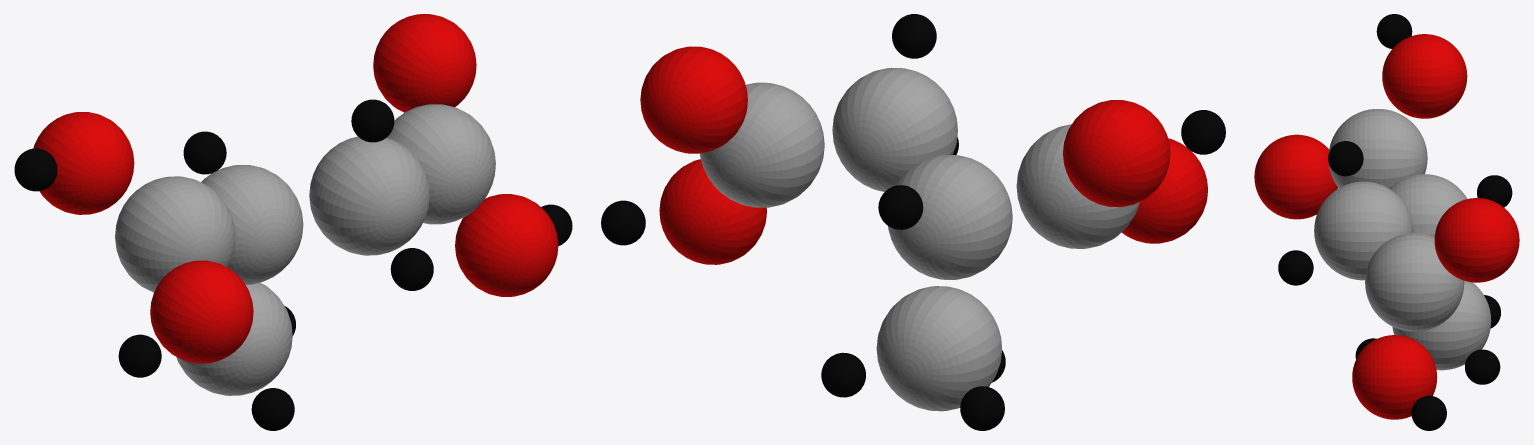
Rendered from Succinic Acid.glb.
3 renders of one model, left to right at view 1: azimuth 30°, elevation 25°; view 2: azimuth 150°, elevation 25°; view 3: azimuth 270°, elevation 25°, orthographic. The views are drawn at different scales.
Visible parts, largest first — view 1: world; view 2: world; view 3: world.
Part boxes in pixels (x1=…): world: x1=14, y1=14, x2=572, y2=430; world: x1=601, y1=14, x2=1225, y2=430; world: x1=1254, y1=14, x2=1519, y2=430.
Size of the model in its own units: 7.68 by 4.2 by 3.74.
